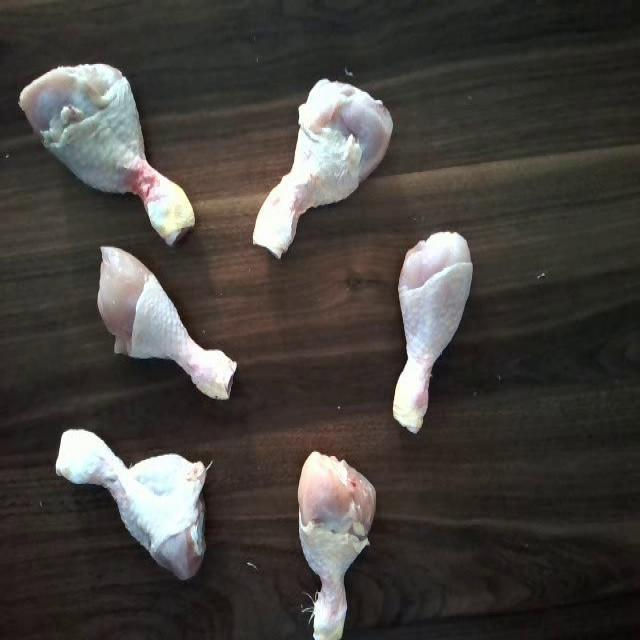leg: (23, 64, 202, 238), (255, 60, 388, 273), (49, 420, 209, 590), (87, 238, 243, 404), (380, 216, 472, 441), (294, 441, 369, 640)
